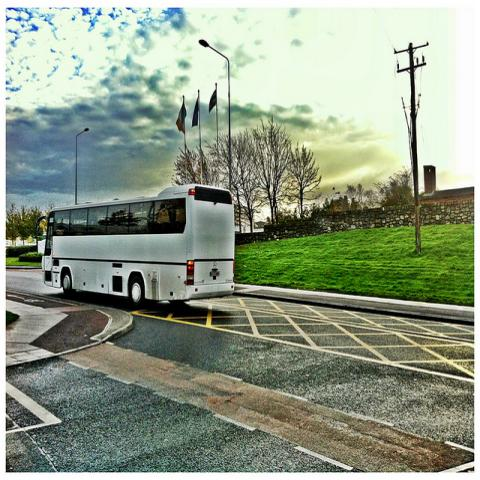bus: (33, 184, 236, 310)
